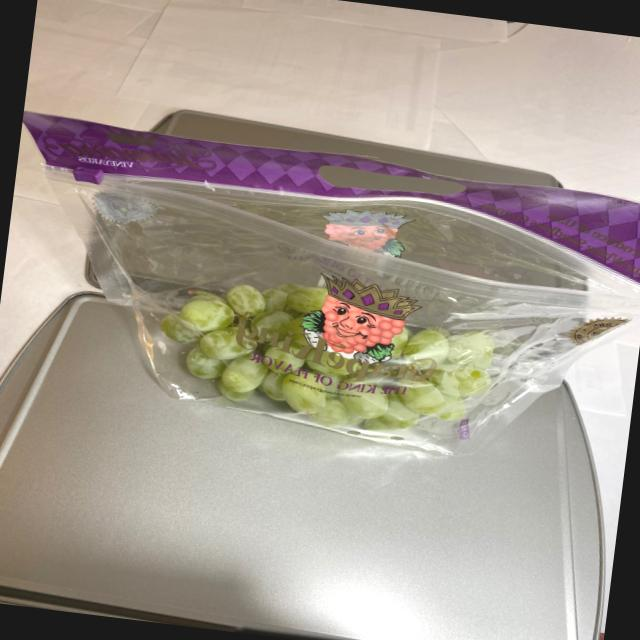grapes: (148, 271, 526, 446)
